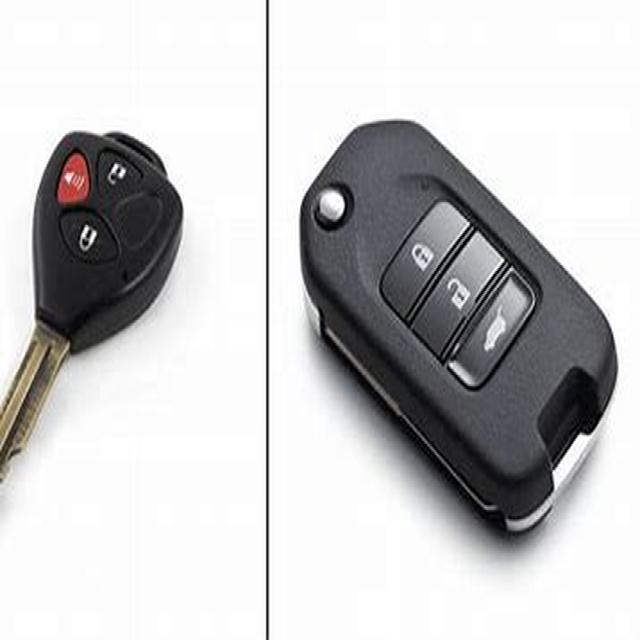key: (0, 79, 598, 547), (262, 133, 620, 548), (0, 103, 194, 490)
